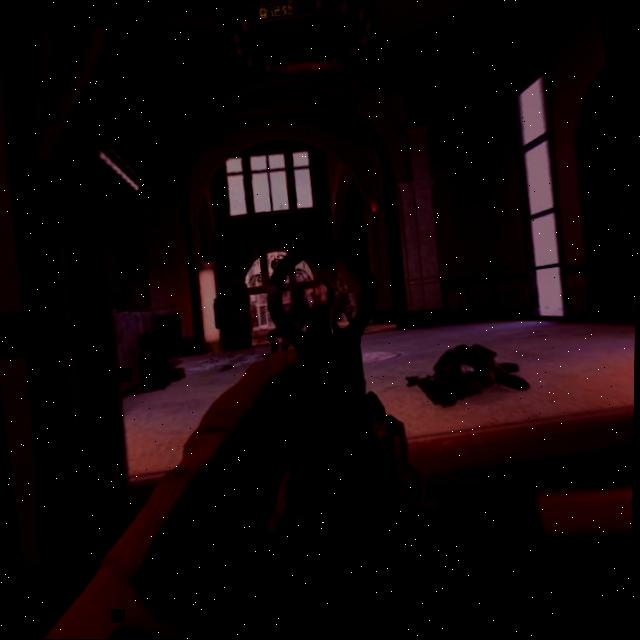MW2_body: (327, 276, 360, 333)
